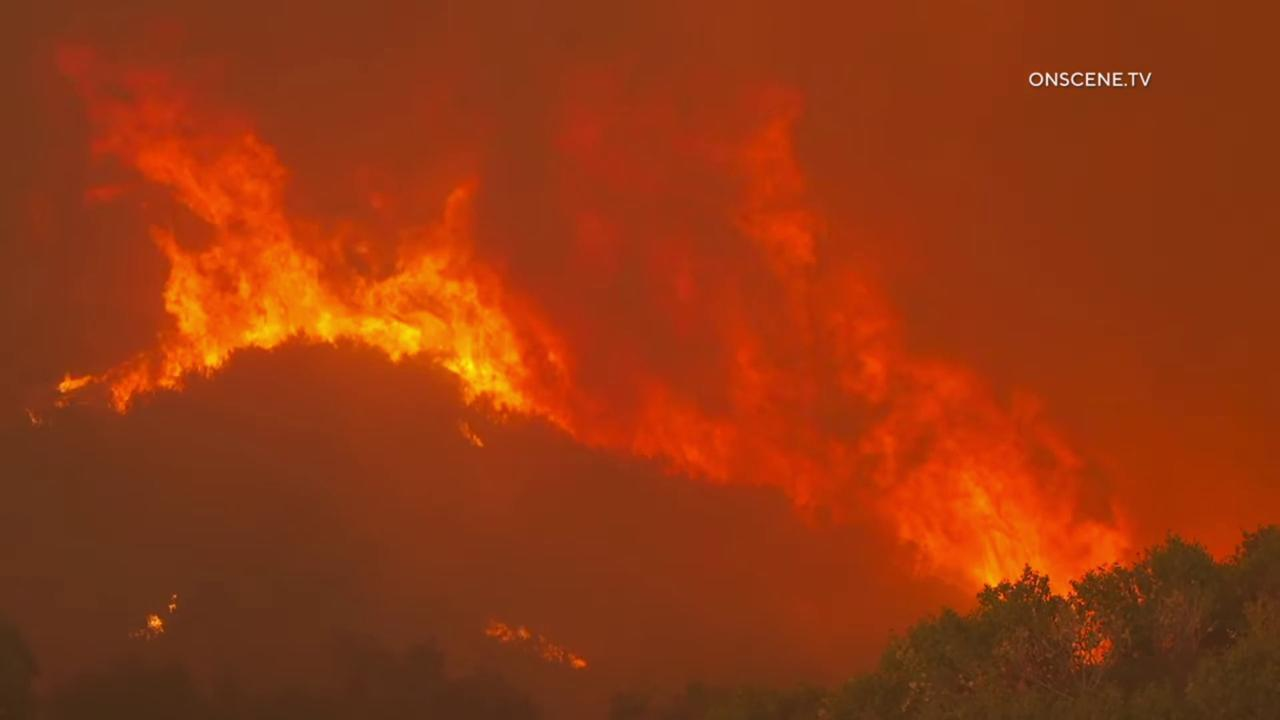fire: (46, 14, 1146, 671), (480, 617, 587, 670), (125, 610, 165, 645), (25, 406, 44, 432), (168, 592, 181, 614)
smoke: (0, 0, 1280, 720)
